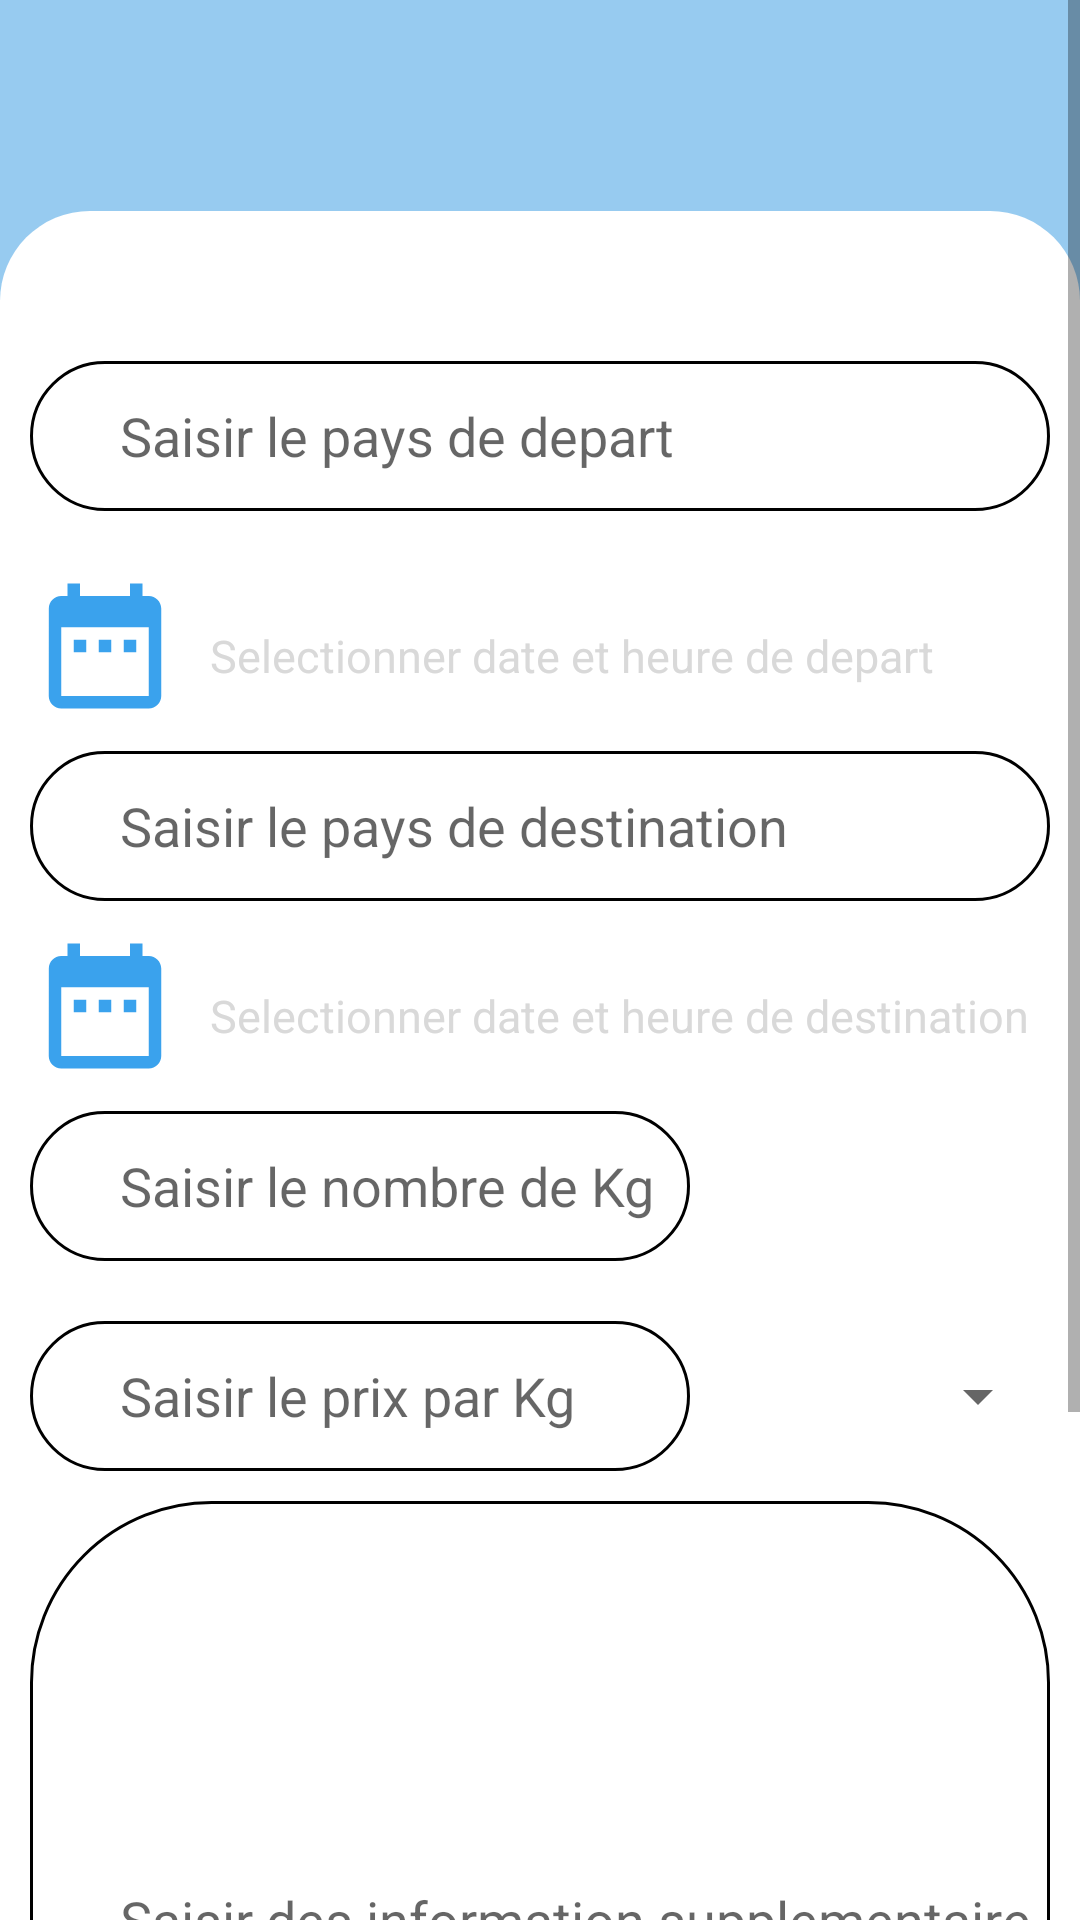

Locate icon controls on the screen. Image size 1080px x 1920px, boxes as (x1, y1, x2, y2).
date range: (48, 583, 162, 709), (48, 943, 162, 1069)
